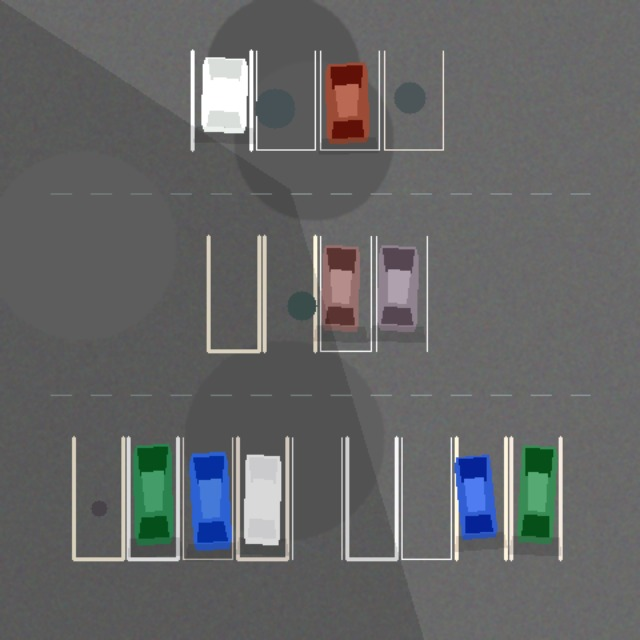space-empty: (73, 437, 123, 559), (401, 437, 451, 559), (292, 437, 341, 559), (347, 437, 396, 559), (208, 236, 259, 351), (264, 236, 315, 351), (256, 51, 315, 149), (384, 51, 443, 149)
space-occupied: (237, 437, 287, 559), (128, 437, 177, 559), (183, 437, 232, 559), (456, 437, 505, 559), (511, 437, 560, 559), (320, 236, 371, 351), (376, 236, 427, 351), (192, 51, 251, 149), (320, 51, 379, 149)
